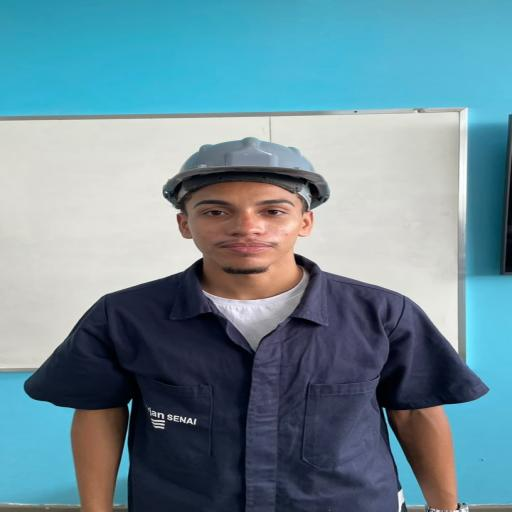CAPACETE: (162, 137, 330, 210)
